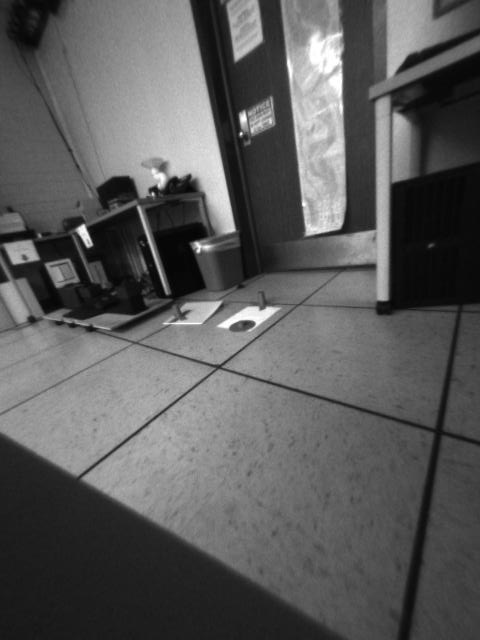X: (247, 290, 276, 310), (170, 303, 191, 324)
